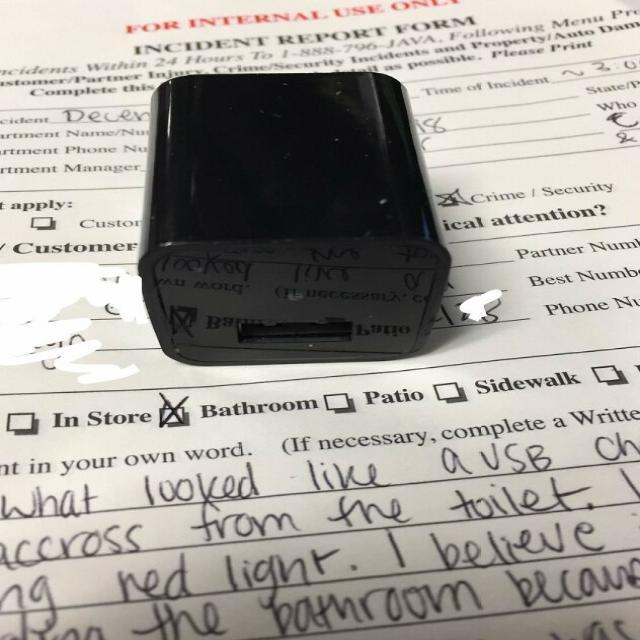hidden camera: (275, 282, 310, 305)
